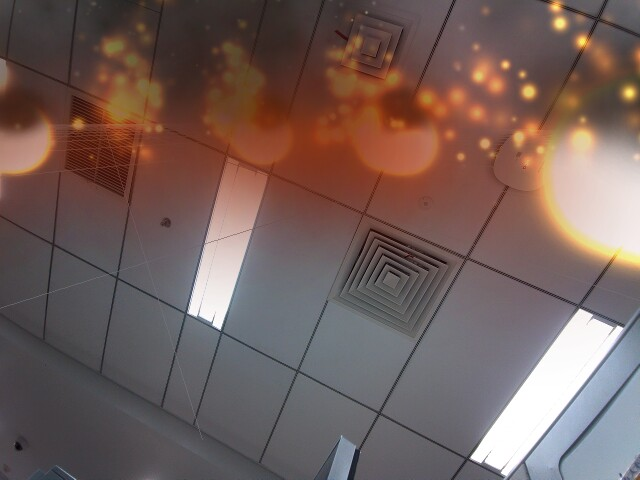fire: (532, 79, 640, 285), (353, 89, 447, 181), (0, 102, 57, 182), (231, 105, 299, 168)
